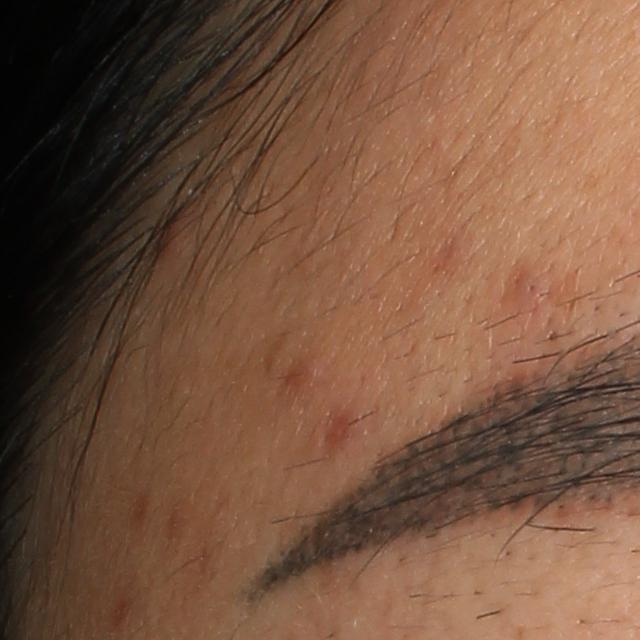papule: (153, 206, 189, 257)
